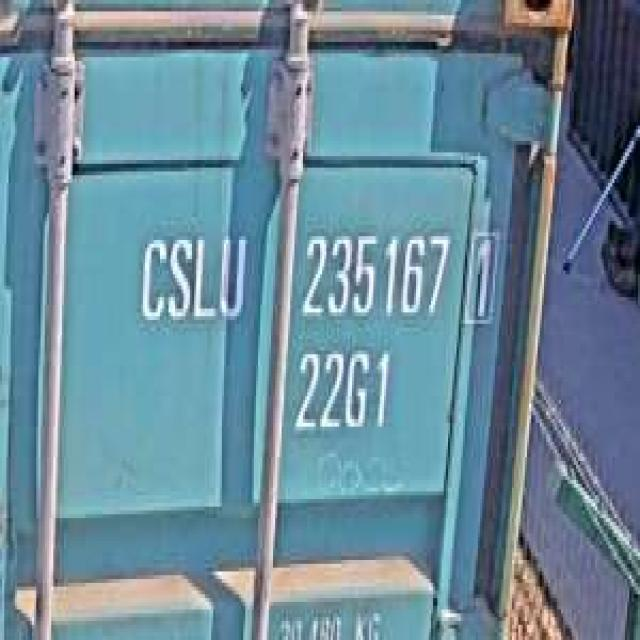dv: (465, 221, 501, 331)
owner: (132, 221, 250, 331)
serial: (297, 217, 450, 328)
size: (290, 339, 393, 442)
